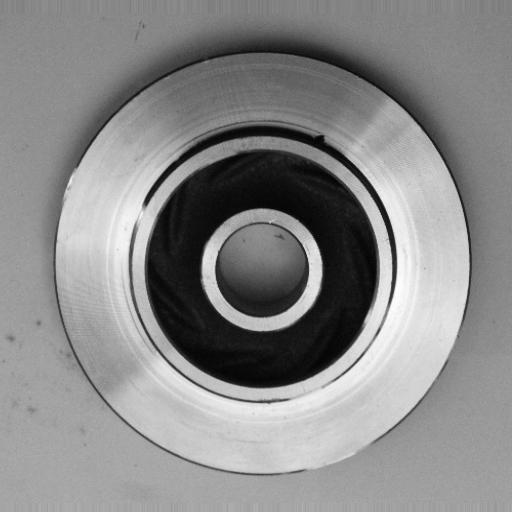crack: (307, 122, 335, 161)
scratch: (126, 192, 163, 279)
unpolished_casting: (54, 47, 475, 478)
